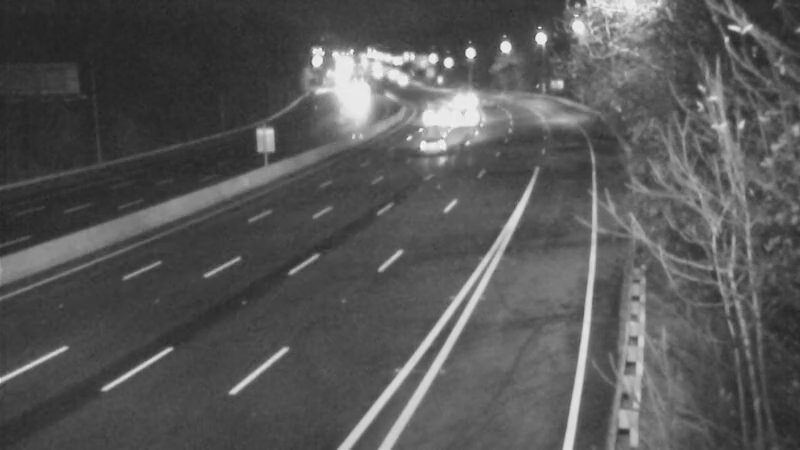vehicle: (435, 72, 485, 122), (404, 89, 454, 139), (443, 97, 493, 147), (408, 117, 458, 167)
